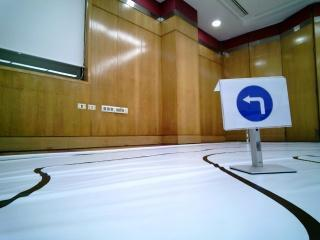left: (227, 85, 281, 123)
